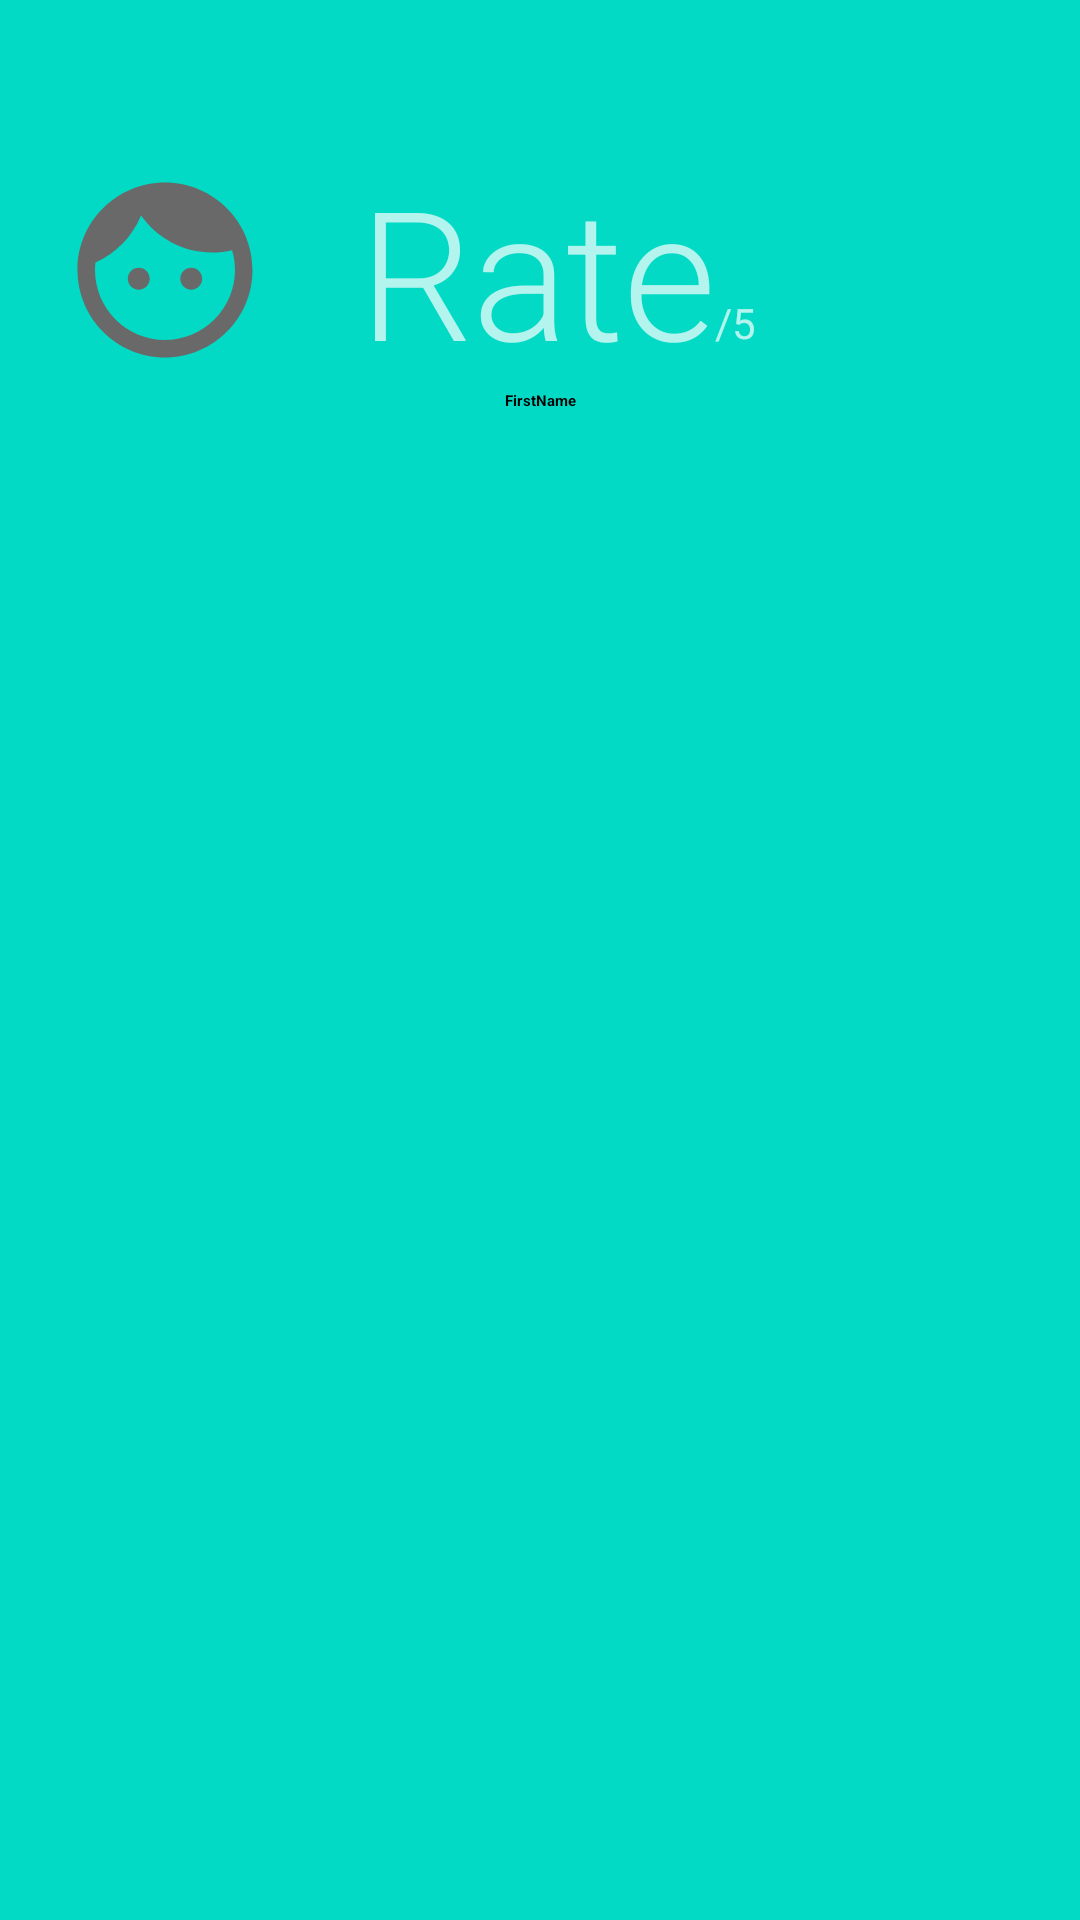

Icons on this 1080px x 1920px Android screen, each with its box as box=[x1, y1, x2, y2]:
face: box=[77, 182, 253, 358]
